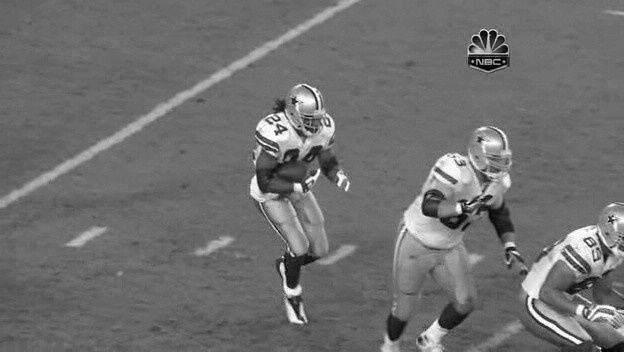person: (289, 84, 325, 130), (288, 84, 324, 130), (290, 84, 326, 130), (289, 83, 325, 129), (289, 85, 325, 131)
target_negative: (190, 99, 462, 341), (210, 147, 314, 333), (569, 251, 623, 339), (142, 194, 280, 227), (358, 315, 549, 326), (344, 268, 365, 337)
